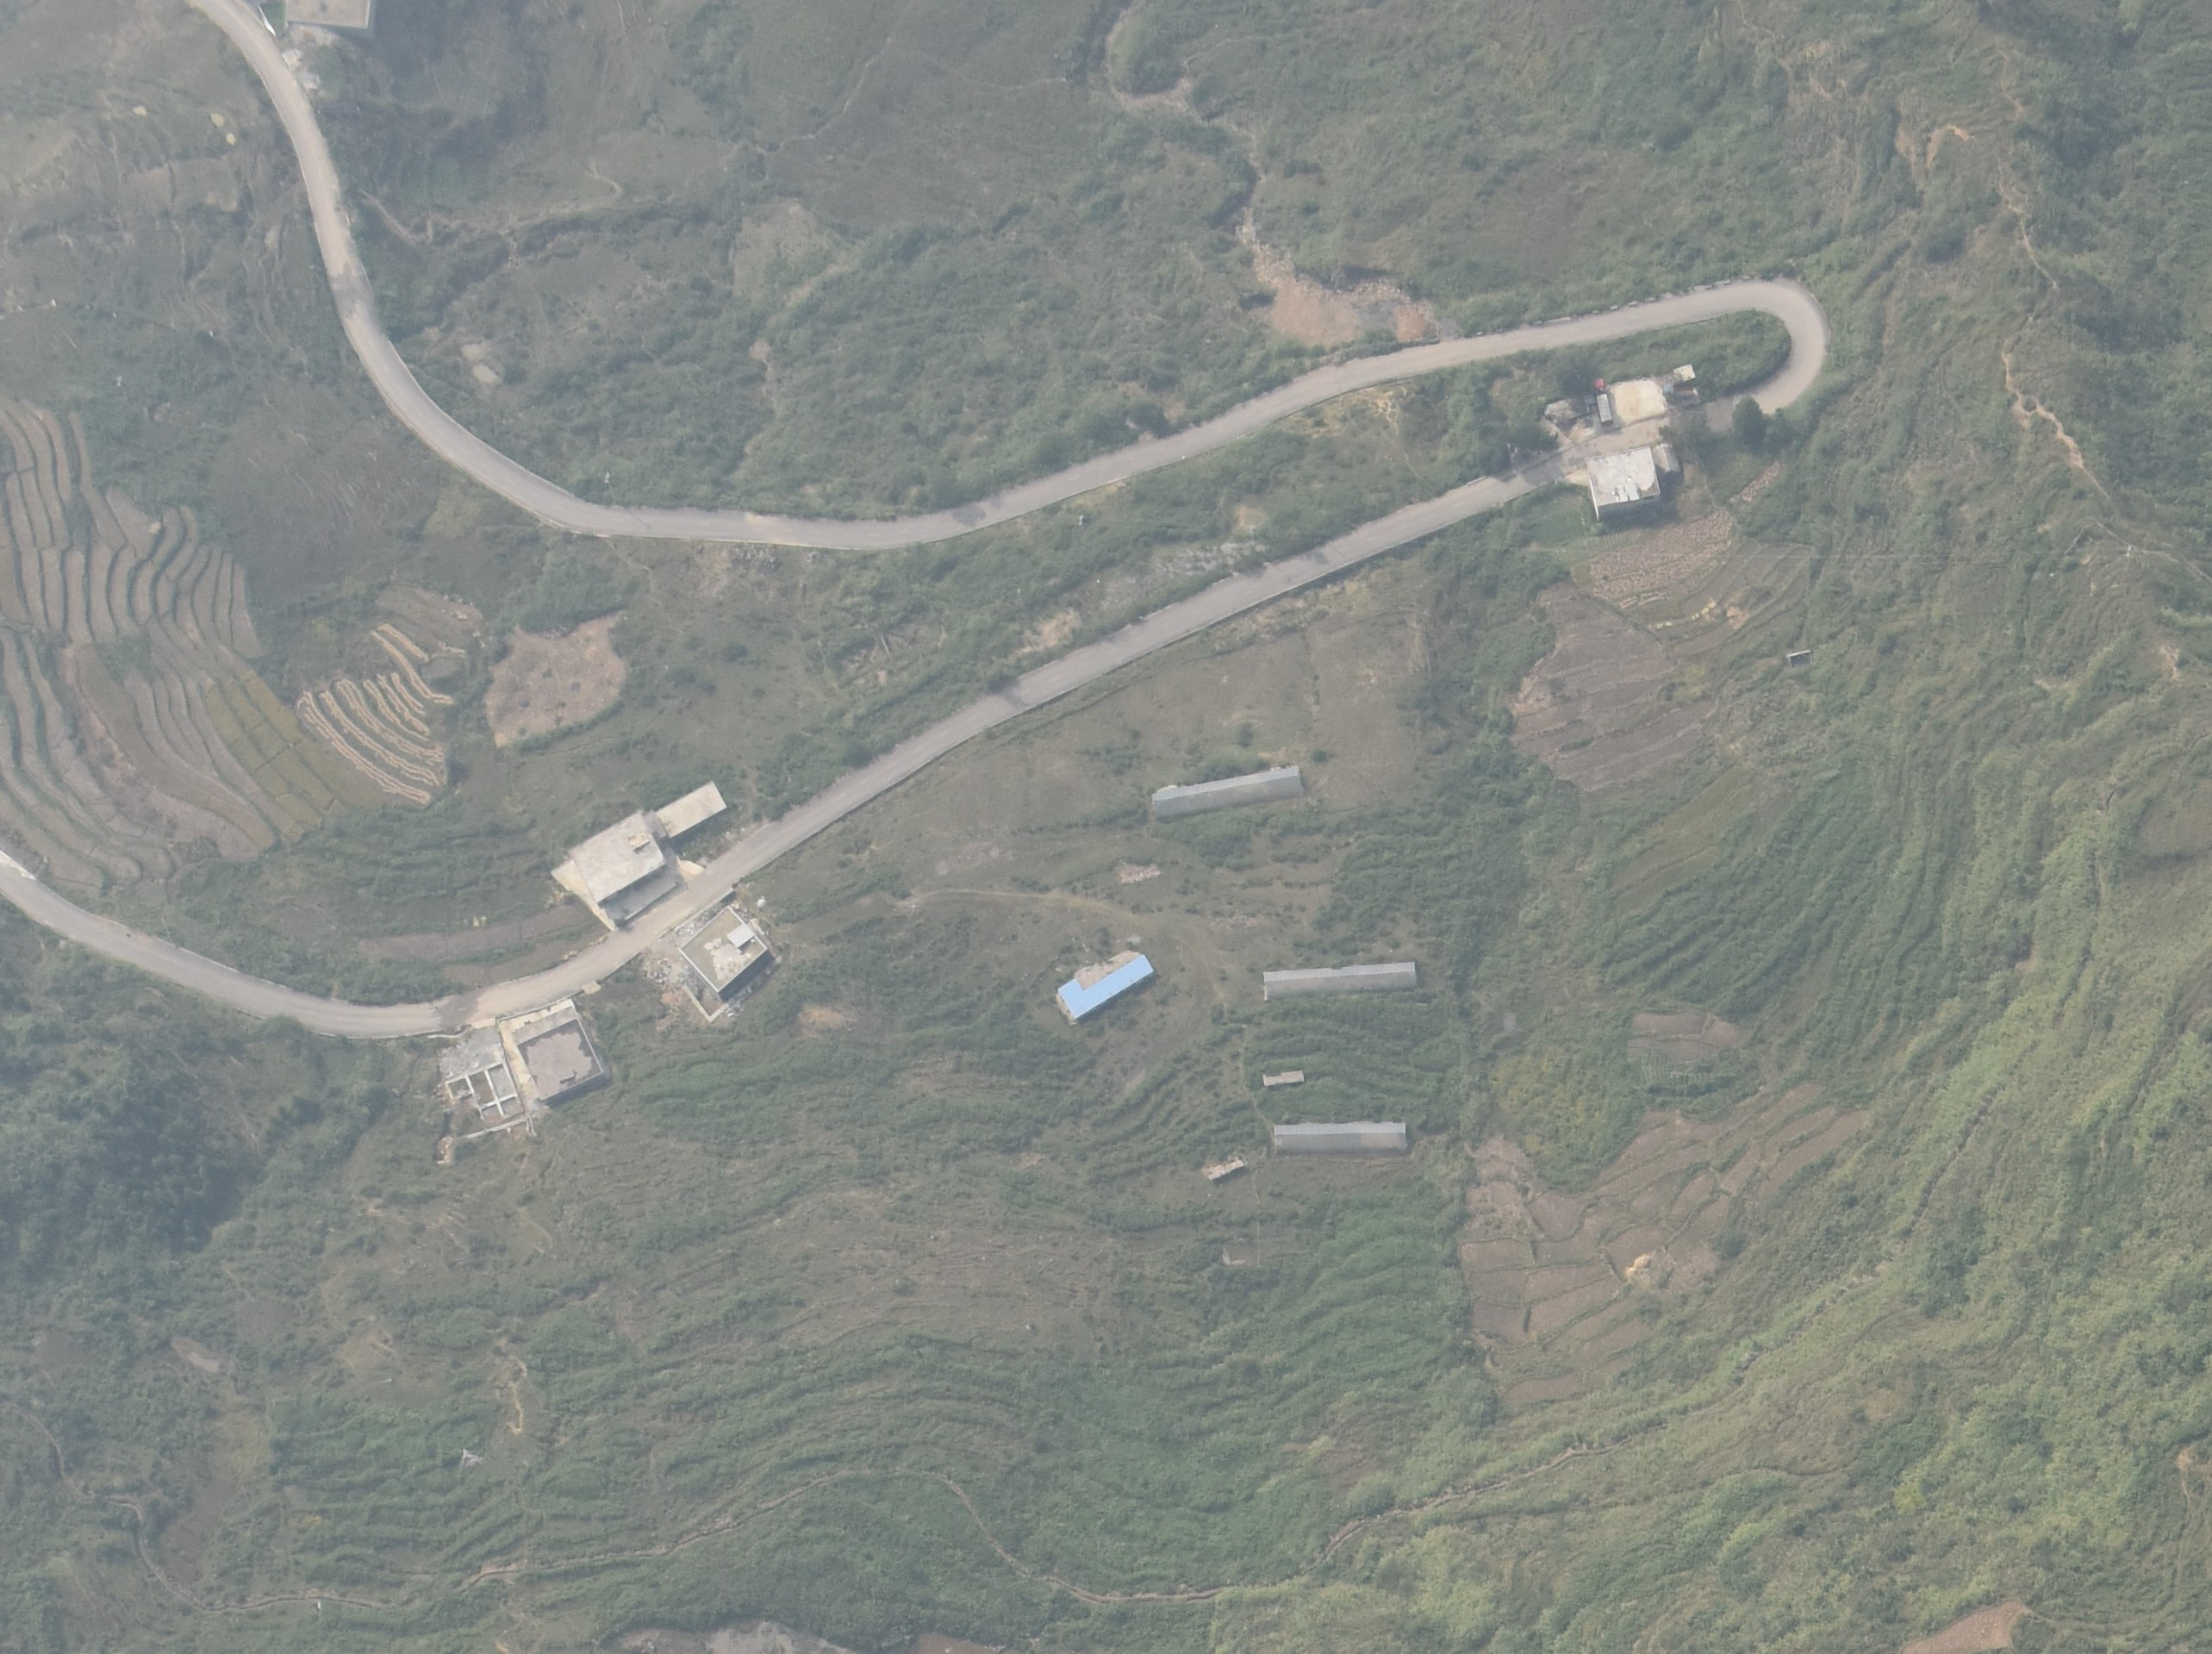building: (568, 808, 679, 921), (509, 1004, 604, 1102), (679, 903, 769, 992), (1151, 766, 1302, 818), (444, 1060, 526, 1138), (1264, 959, 1417, 1001), (1585, 445, 1660, 511), (655, 782, 727, 841), (1274, 1122, 1408, 1154), (1653, 443, 1681, 478)
prefabricated-house: (1056, 954, 1155, 1020)
vehicle: (1594, 379, 1613, 422)
